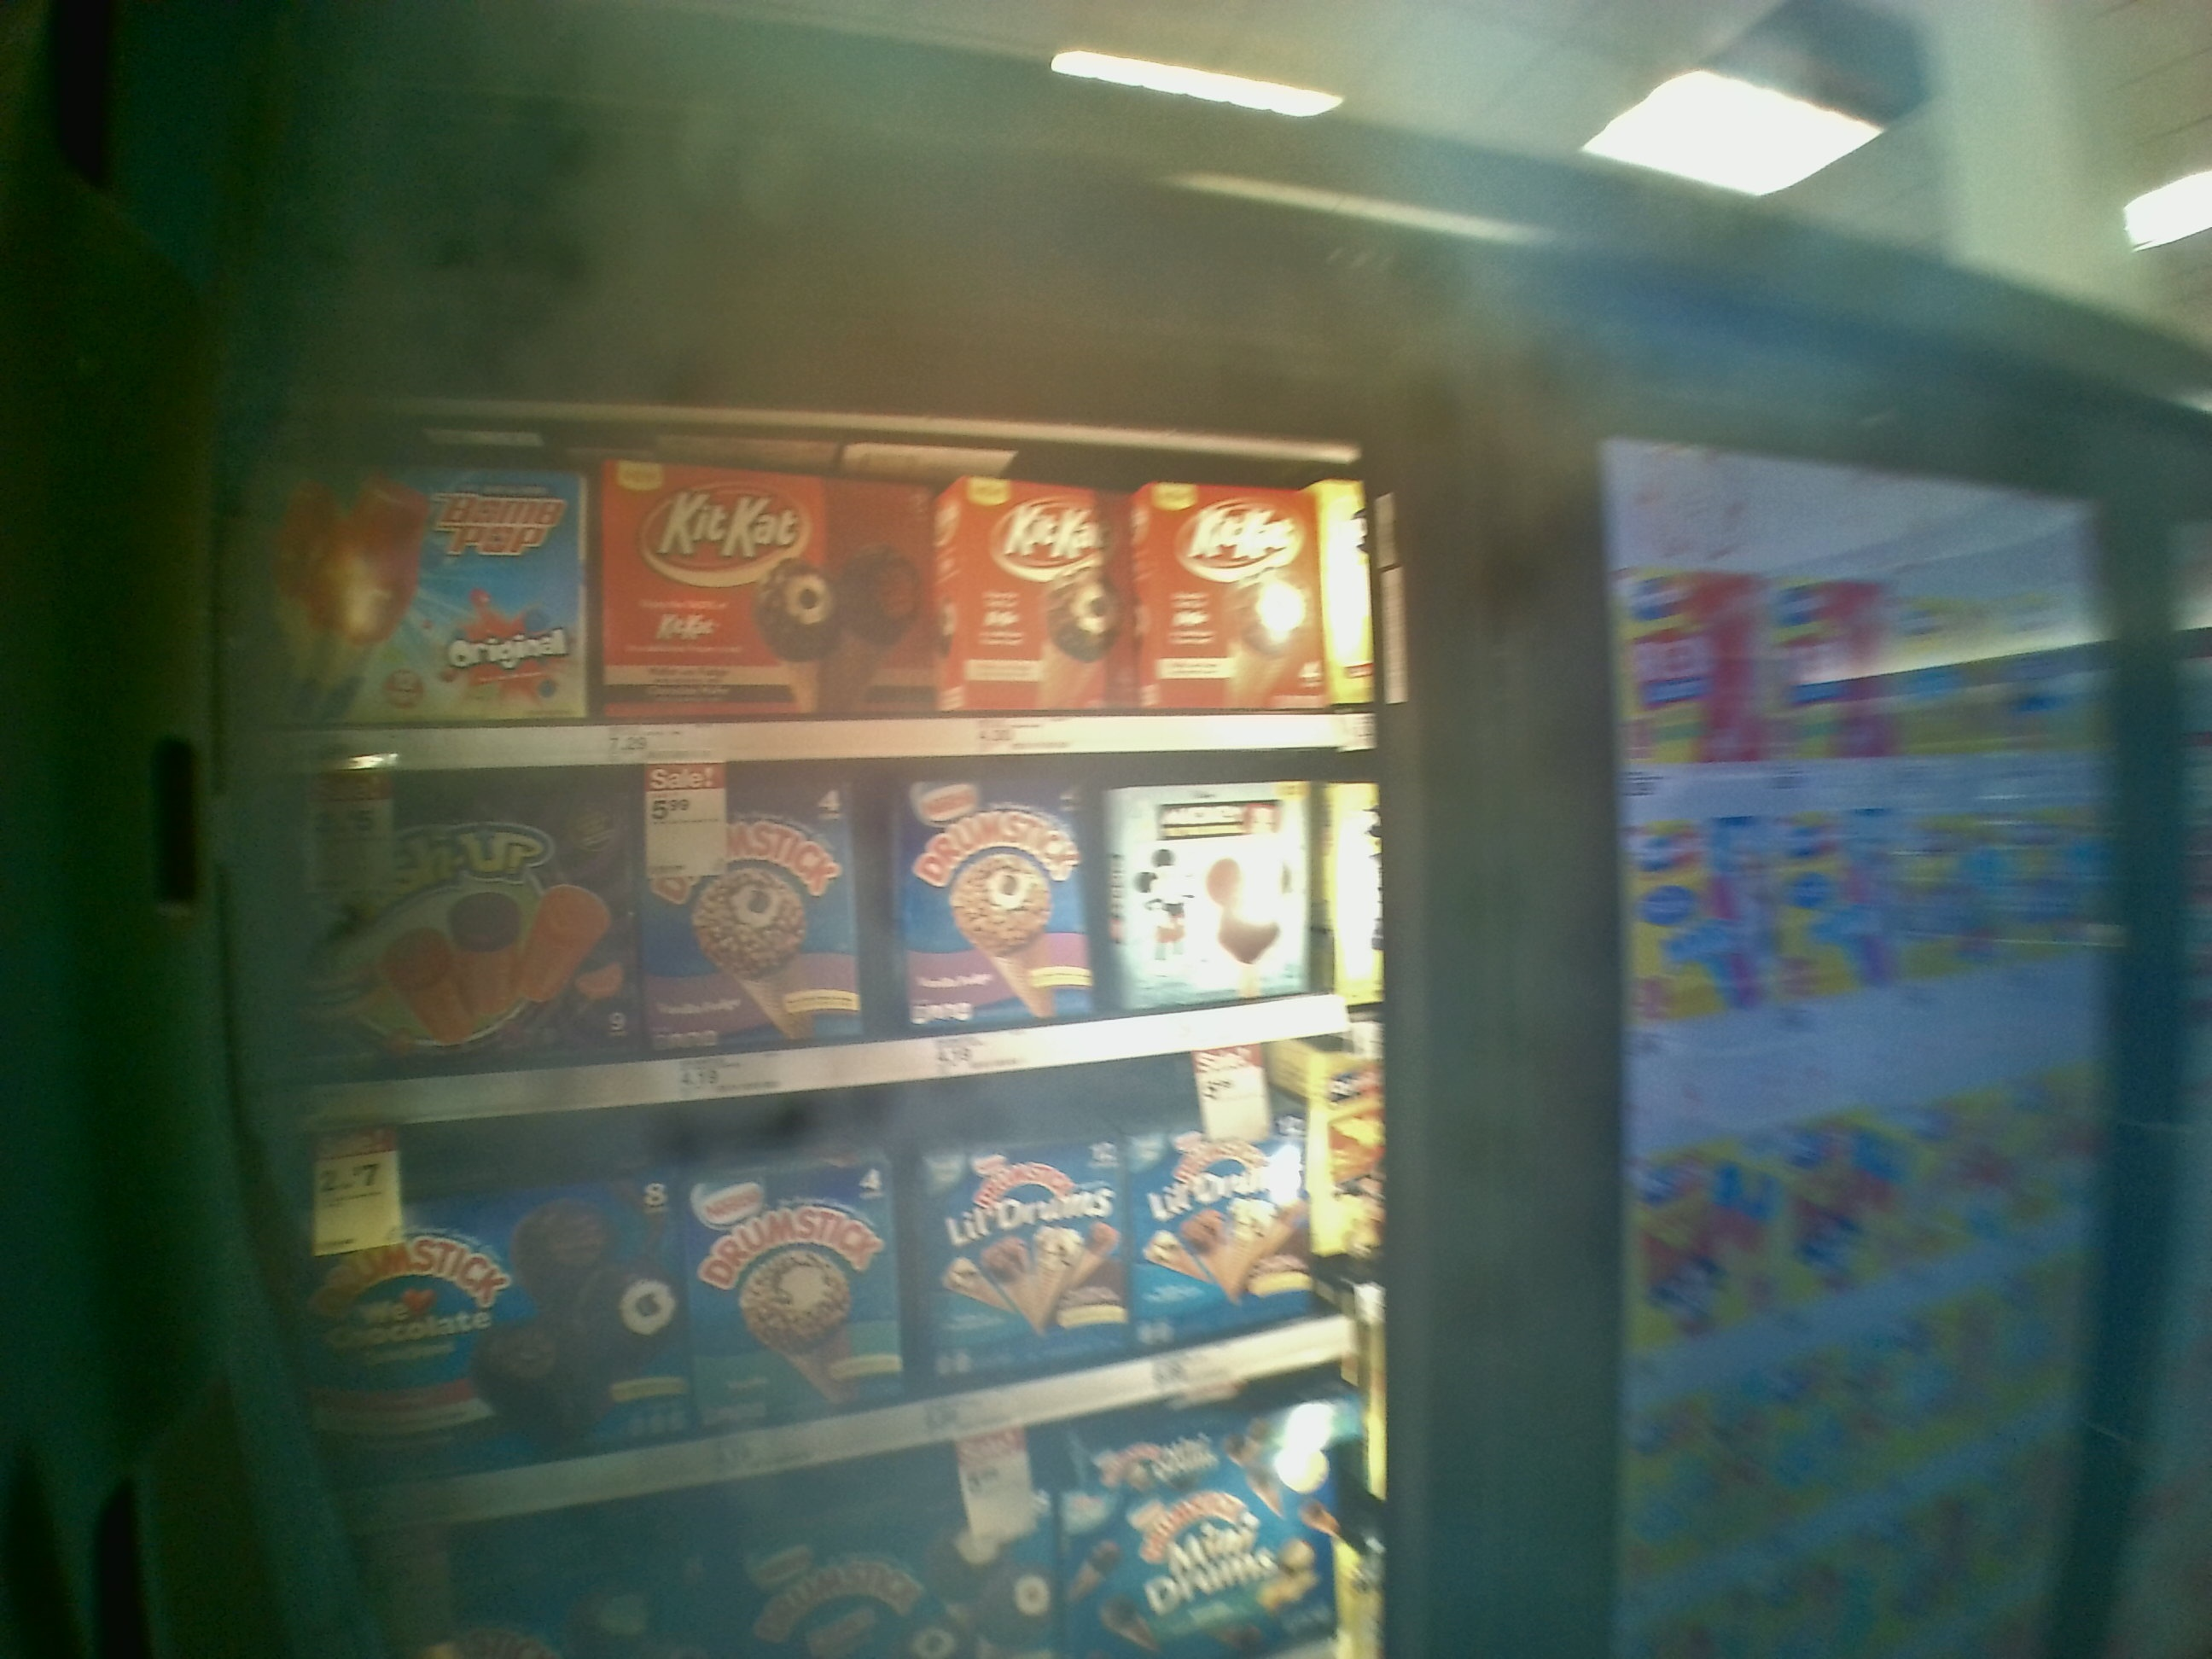shelf: (268, 1009, 1399, 1542), (265, 756, 1416, 1122), (265, 436, 1400, 758)
